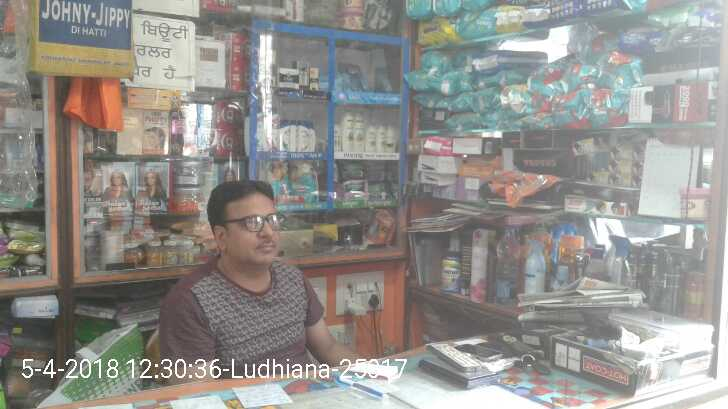ambipureVesus: (469, 229, 488, 303), (525, 239, 545, 293)
venus: (345, 63, 365, 92), (377, 79, 393, 91)
